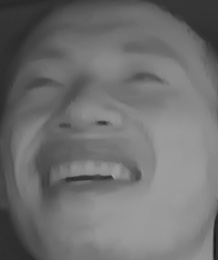eye: (121, 64, 175, 90), (19, 69, 64, 95)
mouth: (36, 139, 143, 206)
